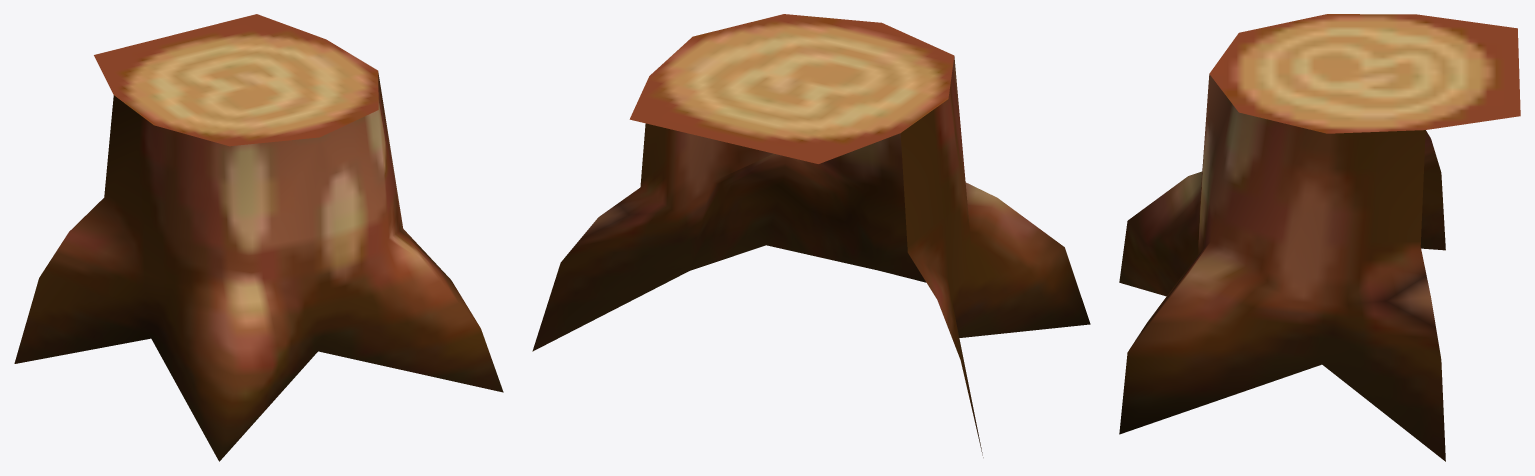
The model's file is fg_treeB_r_5.dae.
3 renders of one model, left to right at view 1: azimuth 30°, elevation 25°; view 2: azimuth 150°, elevation 25°; view 3: azimuth 270°, elevation 25°, orthographic. The views are drawn at different scales.
Visible parts, largest first — view 1: fg_treeB_r_5; view 2: fg_treeB_r_5; view 3: fg_treeB_r_5.
Part boxes in pixels (x1,y1,x2,y2): fg_treeB_r_5: (14,14,503,461); fg_treeB_r_5: (532,14,1090,457); fg_treeB_r_5: (1119,14,1520,461).
Bounding box in the file's own units: 31.18 × 19.55 × 24.99.
1 material, 1 textured.
